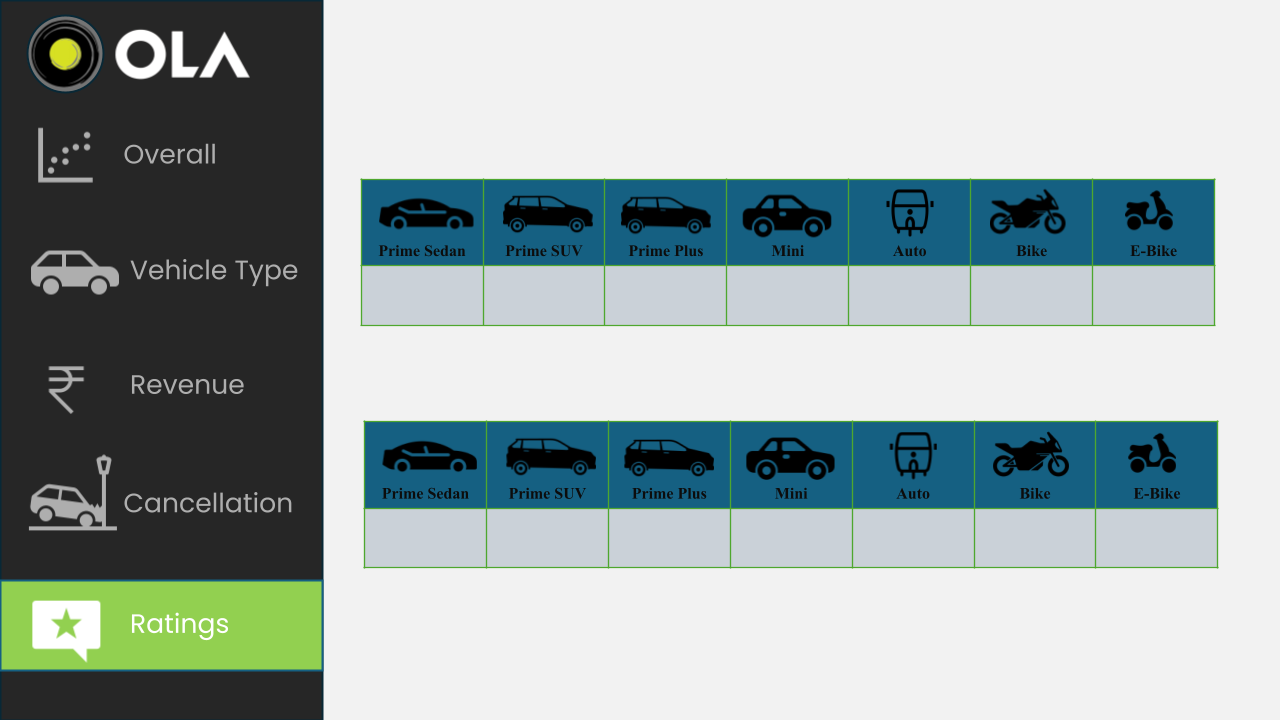

This screenshot's page, from the dashboard's own definition file:
{"tool":"powerbi","page":{"name":"Ratings","canvas":[1920,1080],"ordinal":4},"visuals":[{"type":"actionButton","title":"Overall","box":[321.4,291.4,322.9,87.1],"z":0},{"type":"actionButton","title":"Vehicle Type","box":[321.4,378.6,322.9,122.9],"z":1},{"type":"actionButton","title":"Revenue","box":[321.4,501.4,322.9,118.6],"z":2},{"type":"actionButton","title":"Cancellation","box":[321.4,620,322.9,118.6],"z":3},{"type":"actionButton","title":"Ratings","box":[321.4,738.6,322.9,115.7],"z":4}]}

Visuals, with their boxes in screenshot pixels (x1, y1, x2, y2), scaled from the page's 1920x1080 canvas onto the 1280x720 screenshot:
"Overall" actionButton: Rect(214, 194, 430, 252)
"Vehicle Type" actionButton: Rect(214, 252, 430, 334)
"Revenue" actionButton: Rect(214, 334, 430, 413)
"Cancellation" actionButton: Rect(214, 413, 430, 492)
"Ratings" actionButton: Rect(214, 492, 430, 570)
